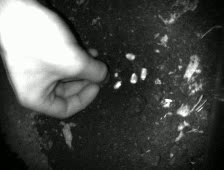corn: (110, 78, 125, 91), (128, 71, 140, 86), (138, 66, 149, 81), (123, 51, 137, 62), (112, 71, 120, 79)
